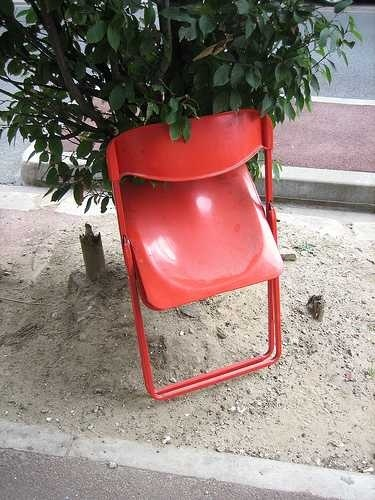obstacle: (107, 110, 281, 399)
